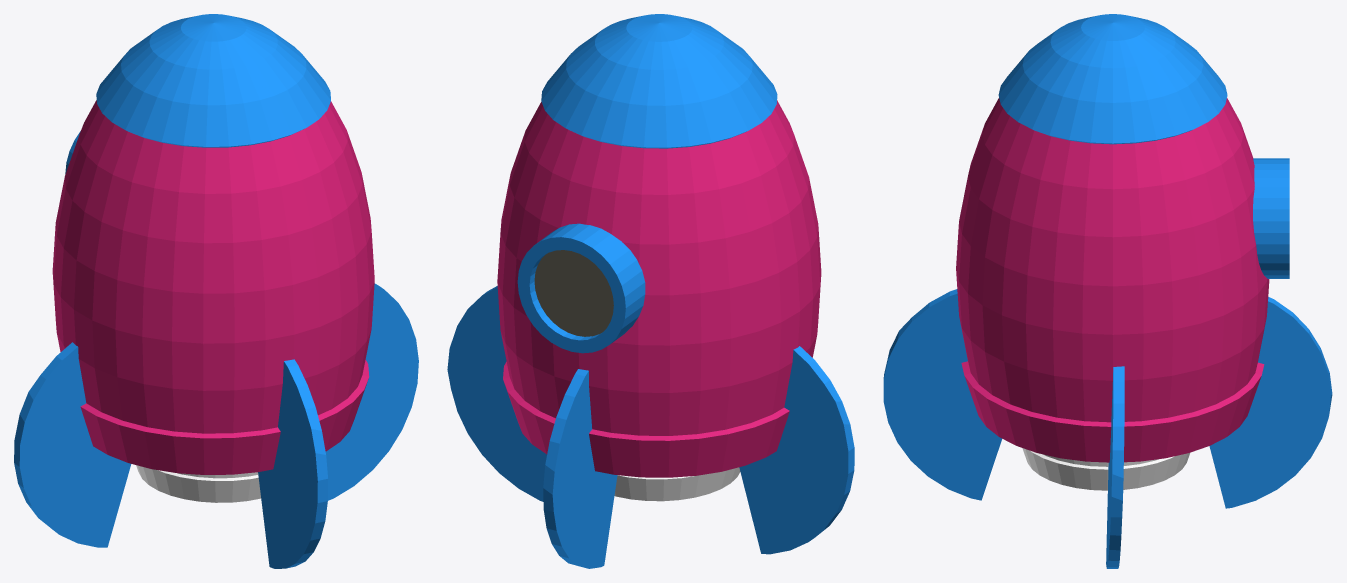
Rendered from Foguete.glb.
3 renders of one model, left to right at view 1: azimuth 30°, elevation 25°; view 2: azimuth 150°, elevation 25°; view 3: azimuth 270°, elevation 25°, orthographic. The views are drawn at different scales.
Visible parts, largest first — view 1: Esfera UV, Esfera UV.002, Cilindro.001, Cilindro.003, Cilindro, Esfera UV.001; view 2: Esfera UV, Esfera UV.002, Cilindro.001, Cilindro, Cilindro.002, Cilindro.004, Cilindro.005, Esfera UV.001; view 3: Esfera UV, Esfera UV.002, Cilindro.003, Cilindro.002, Cilindro.004, Esfera UV.001, Cilindro.
Boxes of the visible parts, left/top/right/bottom form: Esfera UV: left=52, top=100, right=374, bottom=474; Esfera UV.002: left=96, top=14, right=330, bottom=147; Cilindro.001: left=14, top=342, right=131, bottom=547; Cilindro.003: left=258, top=359, right=328, bottom=568; Cilindro: left=325, top=283, right=418, bottom=500; Esfera UV.001: left=136, top=465, right=261, bottom=502; Esfera UV: left=497, top=100, right=821, bottom=477; Esfera UV.002: left=541, top=14, right=777, bottom=148; Cilindro.001: left=739, top=346, right=854, bottom=554; Cilindro: left=447, top=286, right=546, bottom=501; Cilindro.002: left=543, top=369, right=617, bottom=568; Cilindro.004: left=517, top=223, right=645, bottom=353; Cilindro.005: left=534, top=250, right=613, bottom=336; Esfera UV.001: left=614, top=467, right=740, bottom=501; Esfera UV: left=956, top=98, right=1269, bottom=462; Esfera UV.002: left=998, top=14, right=1227, bottom=144; Cilindro.003: left=883, top=289, right=1001, bottom=500; Cilindro.002: left=1209, top=297, right=1332, bottom=508; Cilindro.004: left=1253, top=158, right=1289, bottom=278; Esfera UV.001: left=1022, top=448, right=1189, bottom=490; Cilindro: left=1106, top=366, right=1124, bottom=568.
Size of the model in its own units: 2.86 by 3.43 by 2.86.
